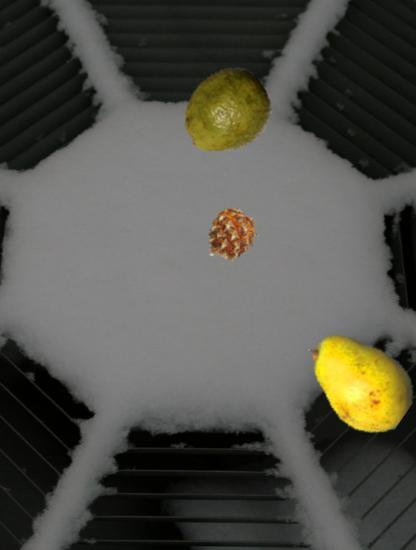Guava: (181, 67, 272, 158)
Pear: (299, 324, 415, 440)
Pineapple: (205, 208, 261, 264)
